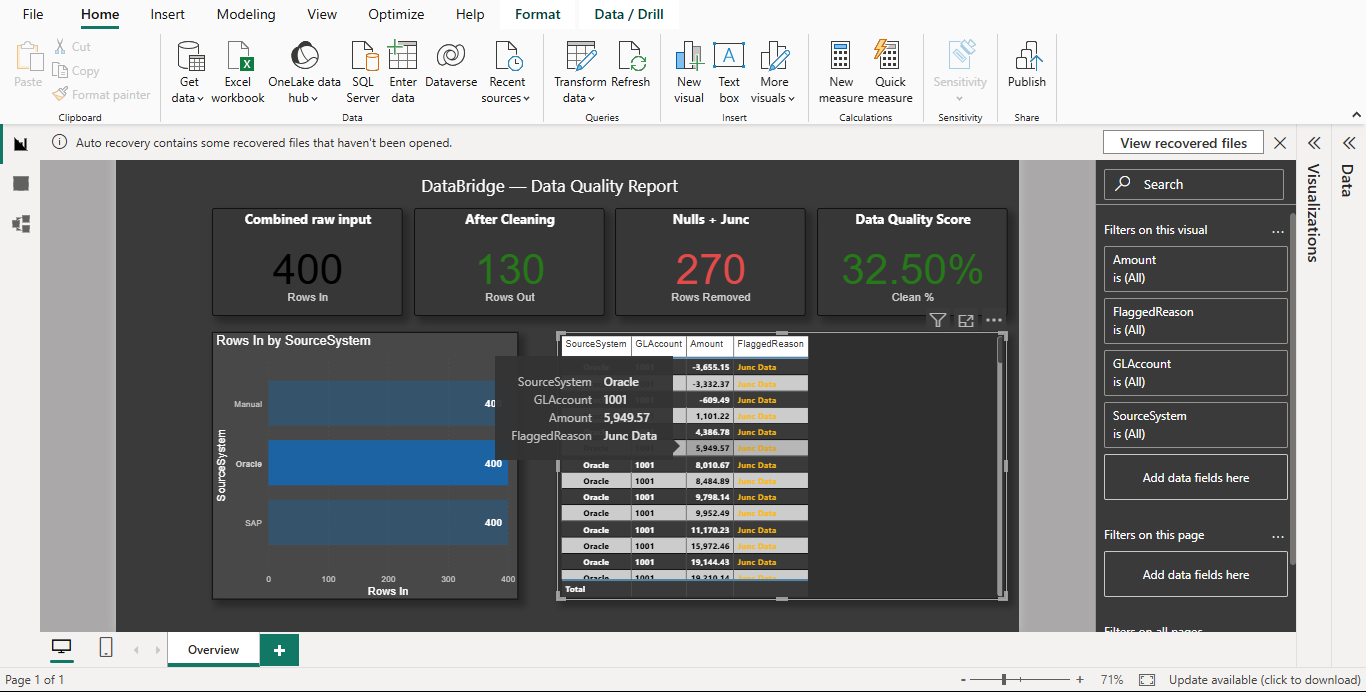

What the dashboard file says about the page in this screenshot:
{"tool":"powerbi","page":{"name":"Overview","canvas":[1280,720],"ordinal":0},"visuals":[{"type":"card","title":"Data Quality Score","fields":{"Values":["CombinedGL.Clean %"]},"box":[993.1,119.1,270.1,152.7],"z":0},{"type":"barChart","fields":{"Category":["CombinedGL.SourceSystem"],"Y":["CombinedGL.Rows In"]},"box":[135.9,295.3,434.5,379.1],"z":1000},{"type":"textbox","box":[0,0,1177.7,110.7],"z":2000},{"type":"card","title":"Nulls + Junc","fields":{"Values":["CombinedGL.Rows Removed"]},"box":[707.9,119.1,270.1,152.7],"z":3000},{"type":"card","title":"After Cleaning","fields":{"Values":["CombinedGL.Rows Out"]},"box":[422.8,119.1,270.1,152.7],"z":4000},{"type":"card","title":"Combined raw input","fields":{"Values":["CombinedGL.Rows In"]},"box":[135.9,119.1,270.1,152.7],"z":5000},{"type":"tableEx","fields":{"Values":["CombinedGL.SourceSystem","CombinedGL.GLAccount","CombinedGL.Amount","CombinedGL.FlaggedRows"]},"box":[625.7,295.3,637.5,379.1],"z":6000},{"type":"textbox","box":[115.8,65.4,996.5,45.3],"z":7000}]}

Visuals, with their boxes on the page's 1280x720 design canvas (x1, y1, x2, y2). These are canvas units, not pixel positions in the 1366x692 screenshot, which may show the page scaled, cropped or inside an application window:
"Data Quality Score" card: <bbox>993, 119, 1263, 272</bbox>
barChart - CombinedGL.SourceSystem x CombinedGL.Rows In: <bbox>136, 295, 570, 674</bbox>
textbox: <bbox>0, 0, 1178, 111</bbox>
"Nulls + Junc" card: <bbox>708, 119, 978, 272</bbox>
"After Cleaning" card: <bbox>423, 119, 693, 272</bbox>
"Combined raw input" card: <bbox>136, 119, 406, 272</bbox>
tableEx - CombinedGL.SourceSystem x CombinedGL.GLAccount: <bbox>626, 295, 1263, 674</bbox>
textbox: <bbox>116, 65, 1112, 111</bbox>
